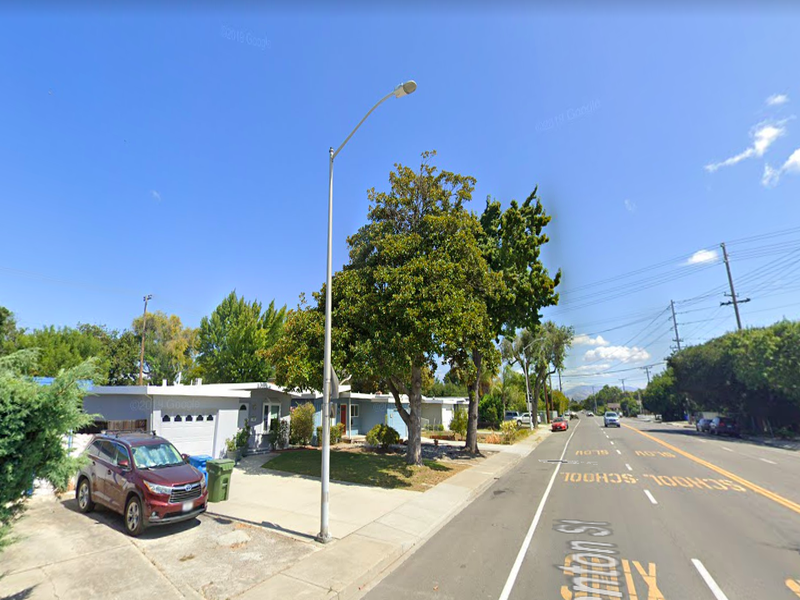tree: (309, 148, 506, 468)
utility_pole: (710, 234, 754, 316), (662, 293, 684, 336)
